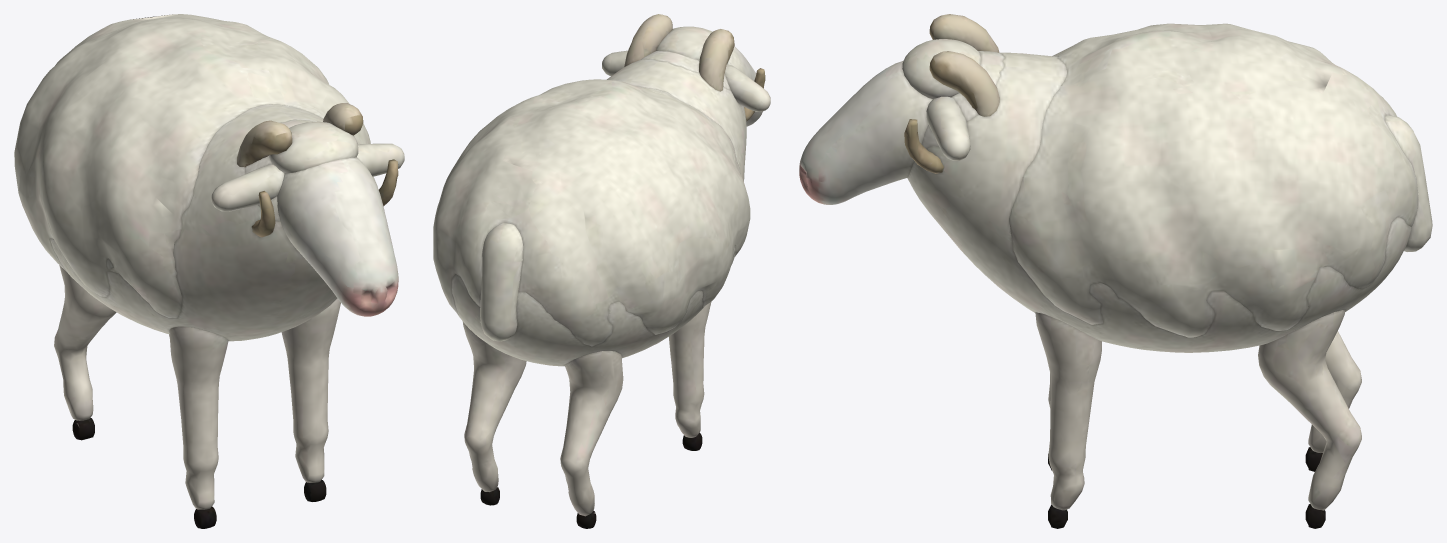
Rendered from animal_merino_sheep.glb.
The picture shows the model from 3 angles, left to right: view 1: azimuth 30°, elevation 25°; view 2: azimuth 150°, elevation 25°; view 3: azimuth 270°, elevation 25°; orthographic projection. The views are drawn at different scales.
Parts seen in each view (by area): view 1: animal_merino_sheep, head, leg0, leg1, leg2; view 2: animal_merino_sheep, head, leg2, leg3, tail, leg0; view 3: animal_merino_sheep, head, leg3, leg1, tail, leg2.
Boxes of the visible parts, left/top/right/bottom form: animal_merino_sheep: left=14, top=14, right=377, bottom=341; head: left=211, top=103, right=404, bottom=316; leg0: left=169, top=326, right=228, bottom=528; leg1: left=281, top=298, right=340, bottom=501; leg2: left=54, top=265, right=116, bottom=440; animal_merino_sheep: left=433, top=51, right=750, bottom=366; head: left=602, top=14, right=770, bottom=126; leg2: left=560, top=351, right=623, bottom=528; leg3: left=462, top=321, right=526, bottom=505; tail: left=480, top=222, right=523, bottom=341; leg0: left=669, top=302, right=711, bottom=450; animal_merino_sheep: left=907, top=23, right=1418, bottom=352; head: left=799, top=14, right=999, bottom=204; leg3: left=1258, top=310, right=1361, bottom=528; leg1: left=1035, top=312, right=1101, bottom=528; tail: left=1385, top=115, right=1432, bottom=251; leg2: left=1305, top=331, right=1361, bottom=471.
Size of the model in its own units: 0.2934 by 0.4184 by 0.5169.
Materials: 1 (1 with a texture image).
